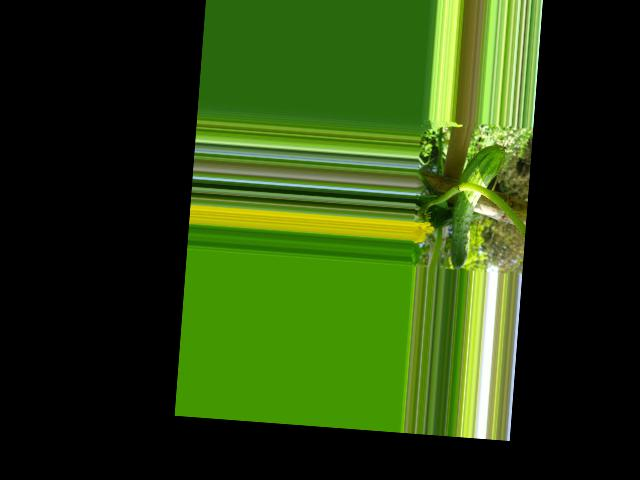cucumber: (448, 141, 505, 272)
